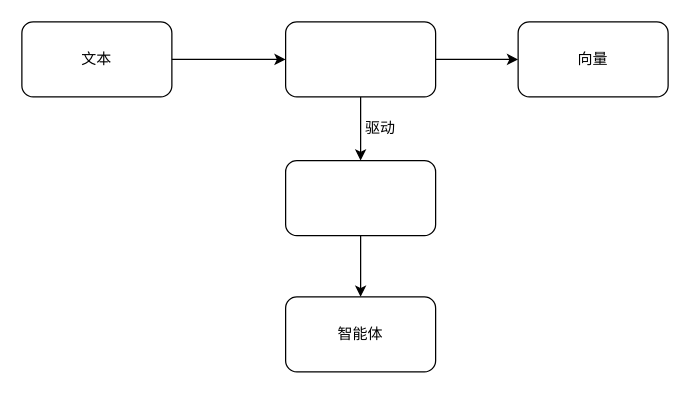
Some shapes in this 690 by 394 pixel diagram are drawn without their labels. Each missing label, with the box of its shape:
文本Embedding模式: (284, 21, 436, 97)
知识库: (284, 159, 436, 236)
